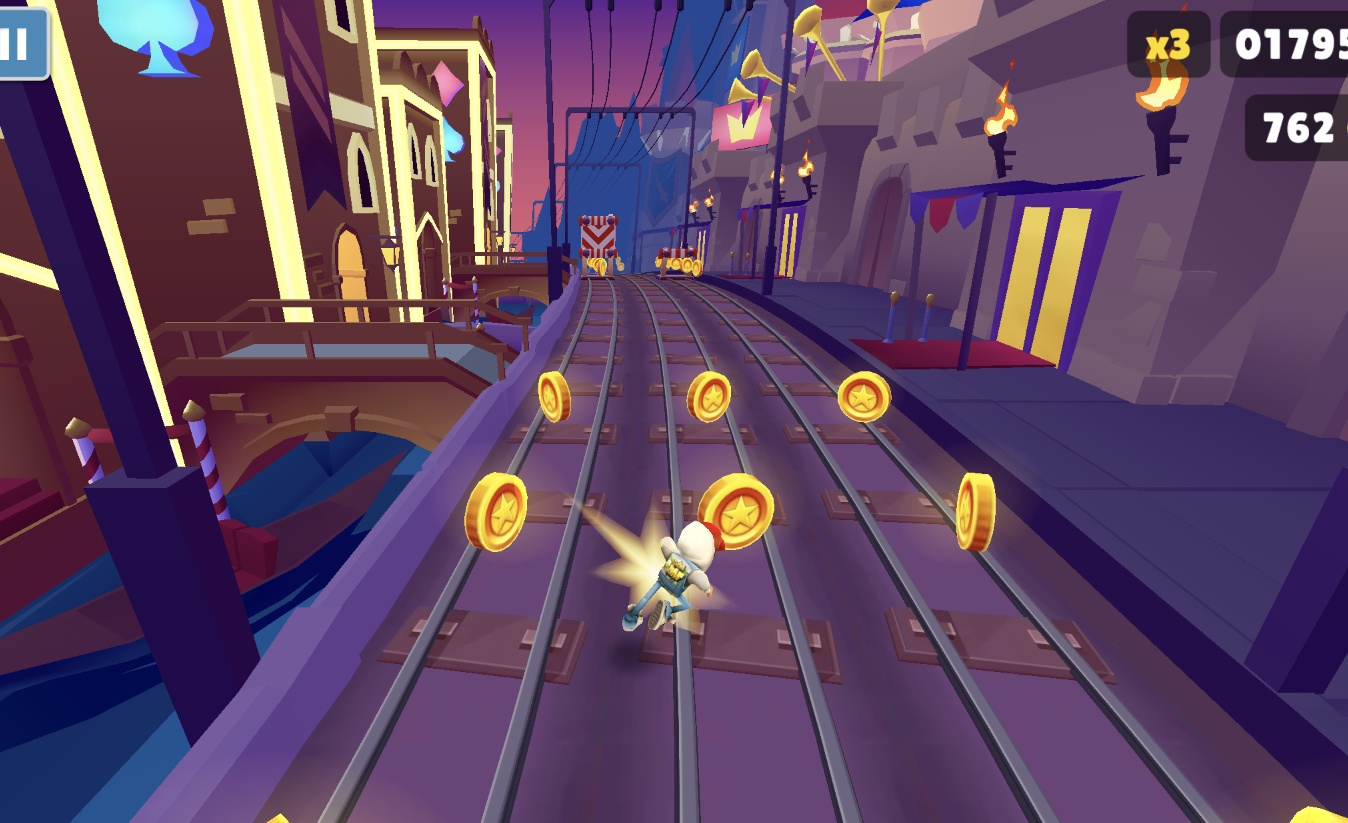ground_barrier: (658, 247, 701, 278)
overhead_barrier: (575, 213, 622, 277)
